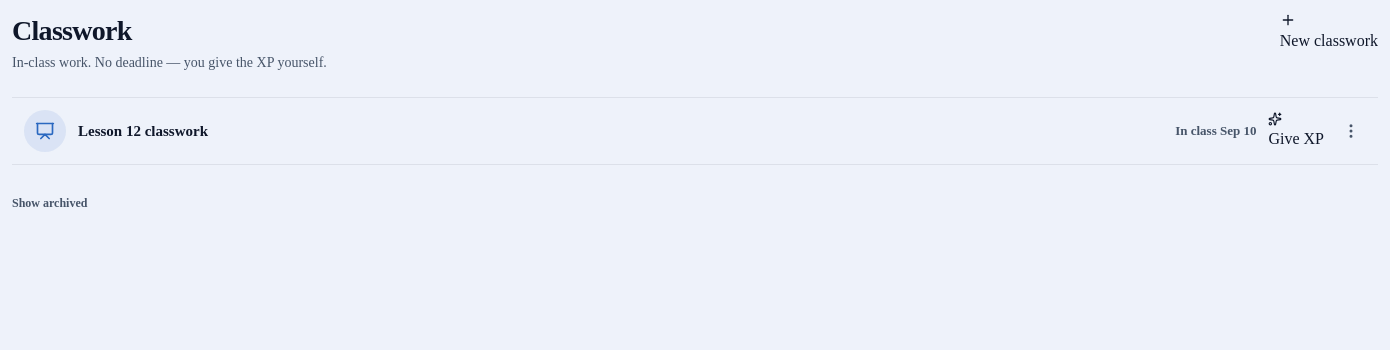
Test case: Classwork tab › gives the teaching team the row menu that used to live only on Assignments
Click the button named "Actions" at [1351, 130], box [1336,116,1366,146]
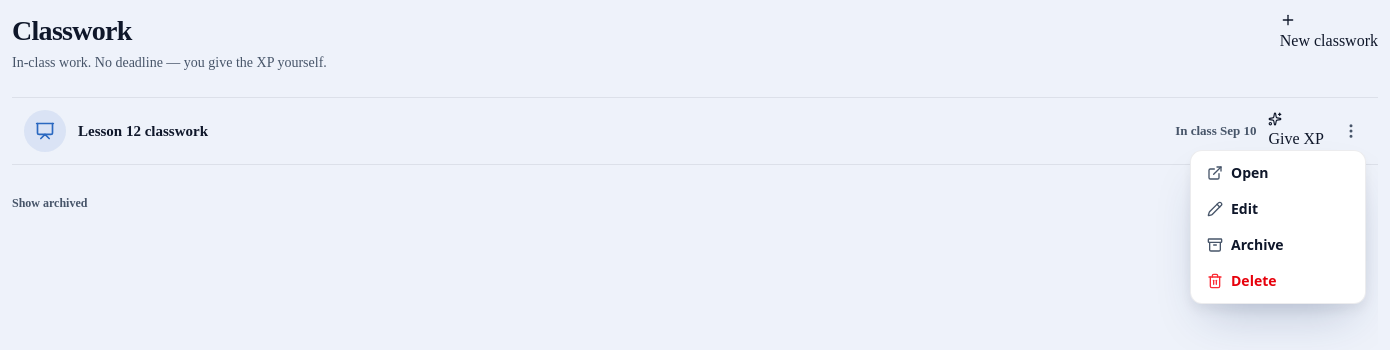
Expected: the text "Open" is shown, [1207,163,1268,182]
Expected: the text "Edit" is shown, [1207,199,1258,218]
Expected: the text "Delete" is shown, [1195,263,1361,299]
